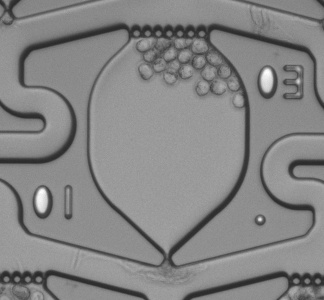AptNum: (253, 63, 306, 104)
Marker: (254, 214, 267, 226)
StNum: (30, 184, 76, 222)
